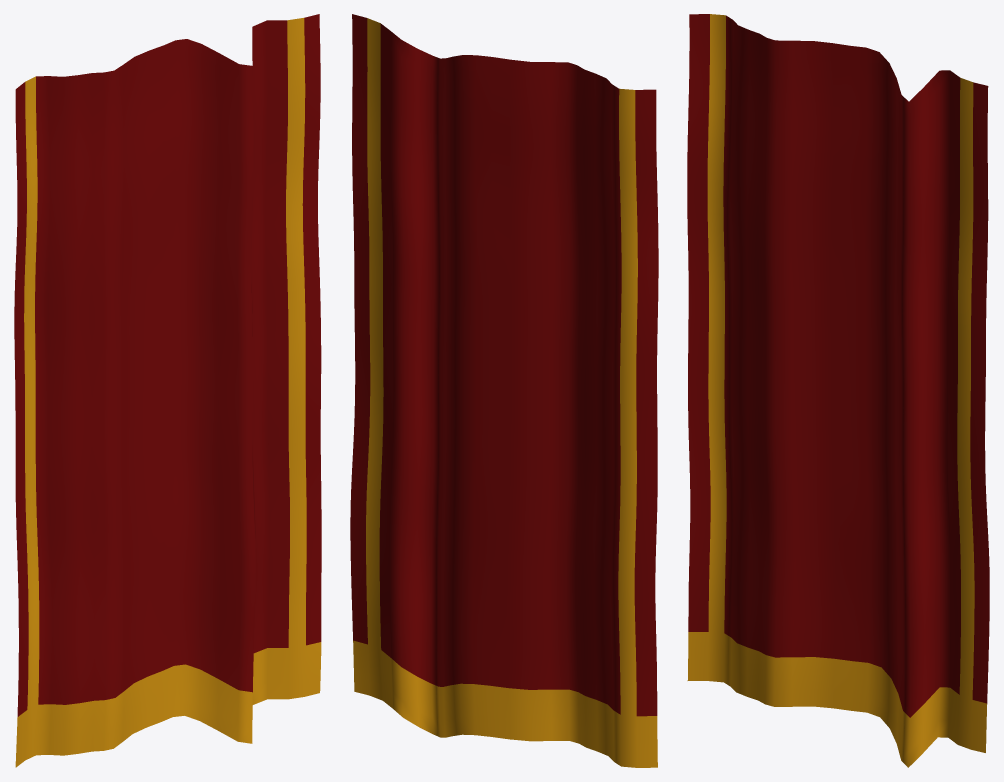
Rendered from curtain_04.FBX.
The picture shows the model from 3 angles, left to right: view 1: azimuth 30°, elevation 25°; view 2: azimuth 150°, elevation 25°; view 3: azimuth 330°, elevation 25°; orthographic projection.
Parts seen in each view (by area): view 1: Plane005; view 2: Plane005; view 3: Plane005.
Boxes of the visible parts, x1,y1,x2,y2 form: Plane005: (14,14,321,767); Plane005: (350,14,658,767); Plane005: (687,14,989,767).
Size of the model in its own units: 360 by 41.49 by 790.
